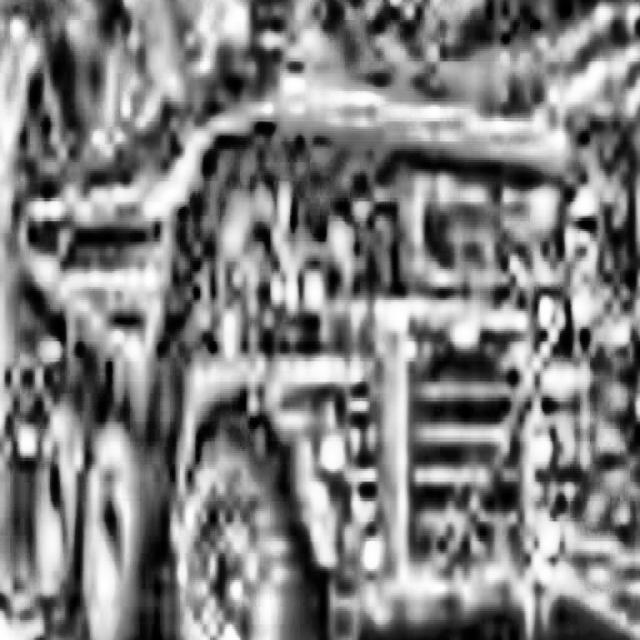dump_truck: (6, 66, 581, 640)
